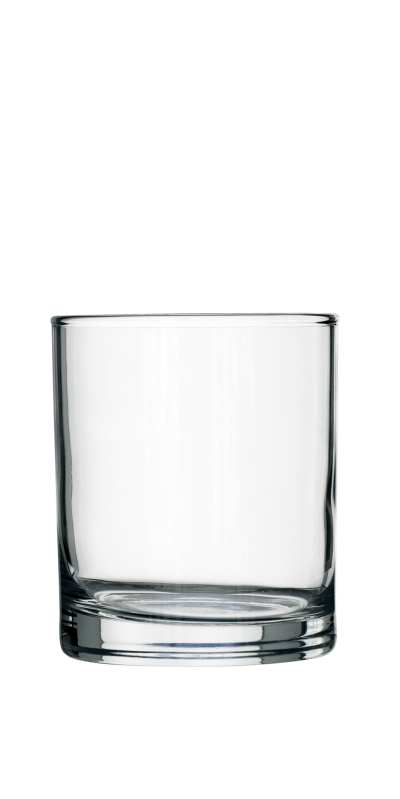glass of water: (55, 314, 337, 664)
